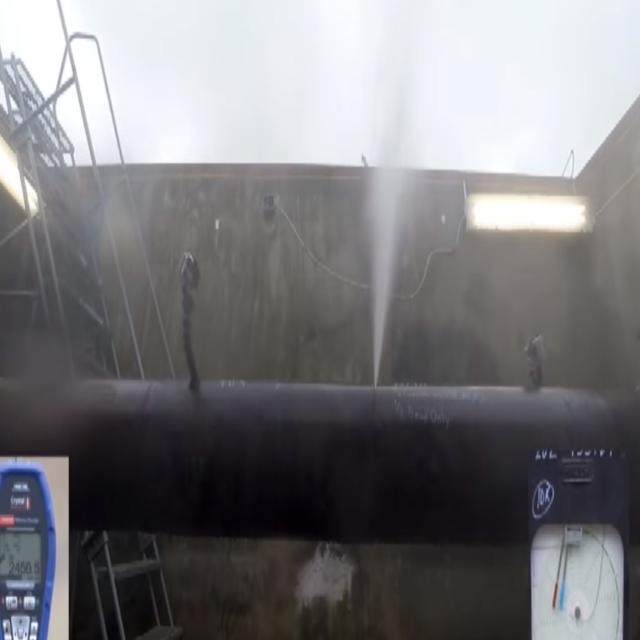leak: (372, 168, 400, 386)
